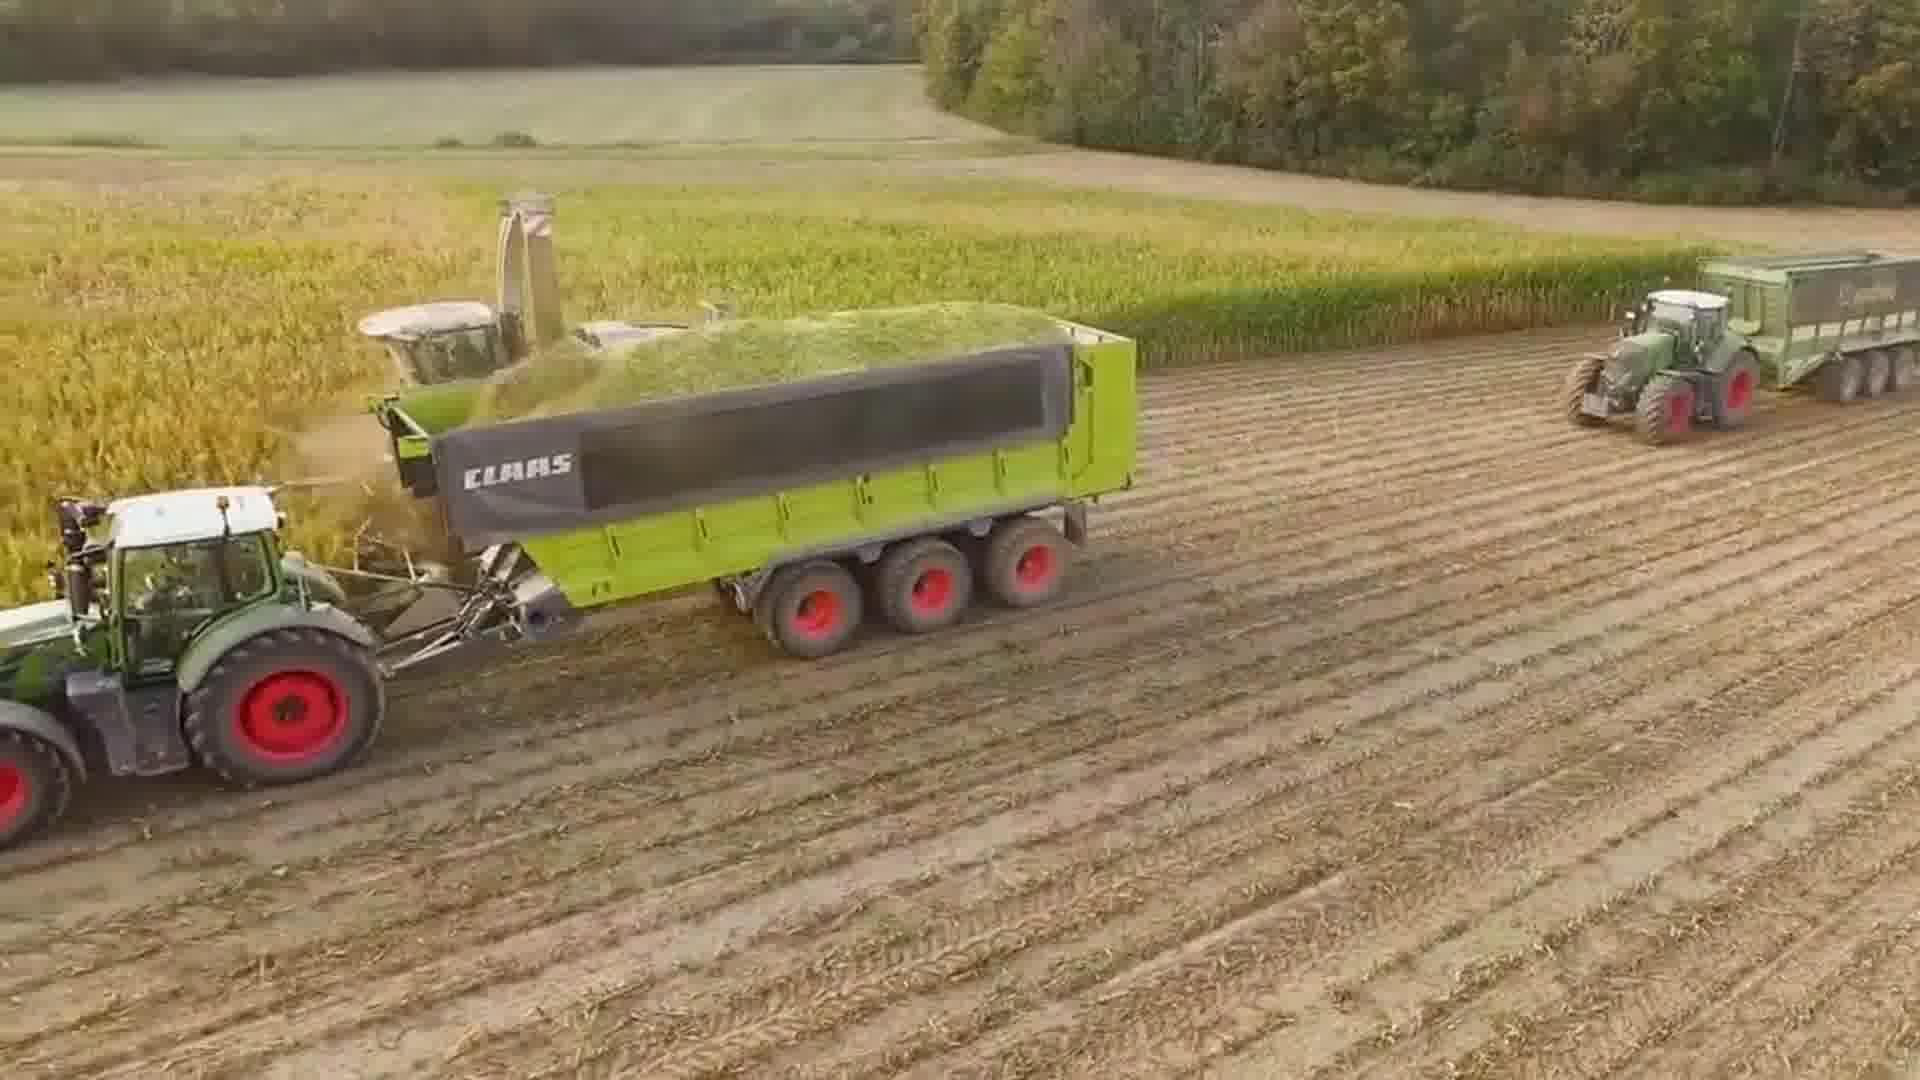combine harvester: (355, 186, 676, 388)
tractor: (0, 472, 398, 858), (1559, 285, 1764, 455)
trailer: (378, 294, 1149, 675), (1693, 240, 1920, 415)
